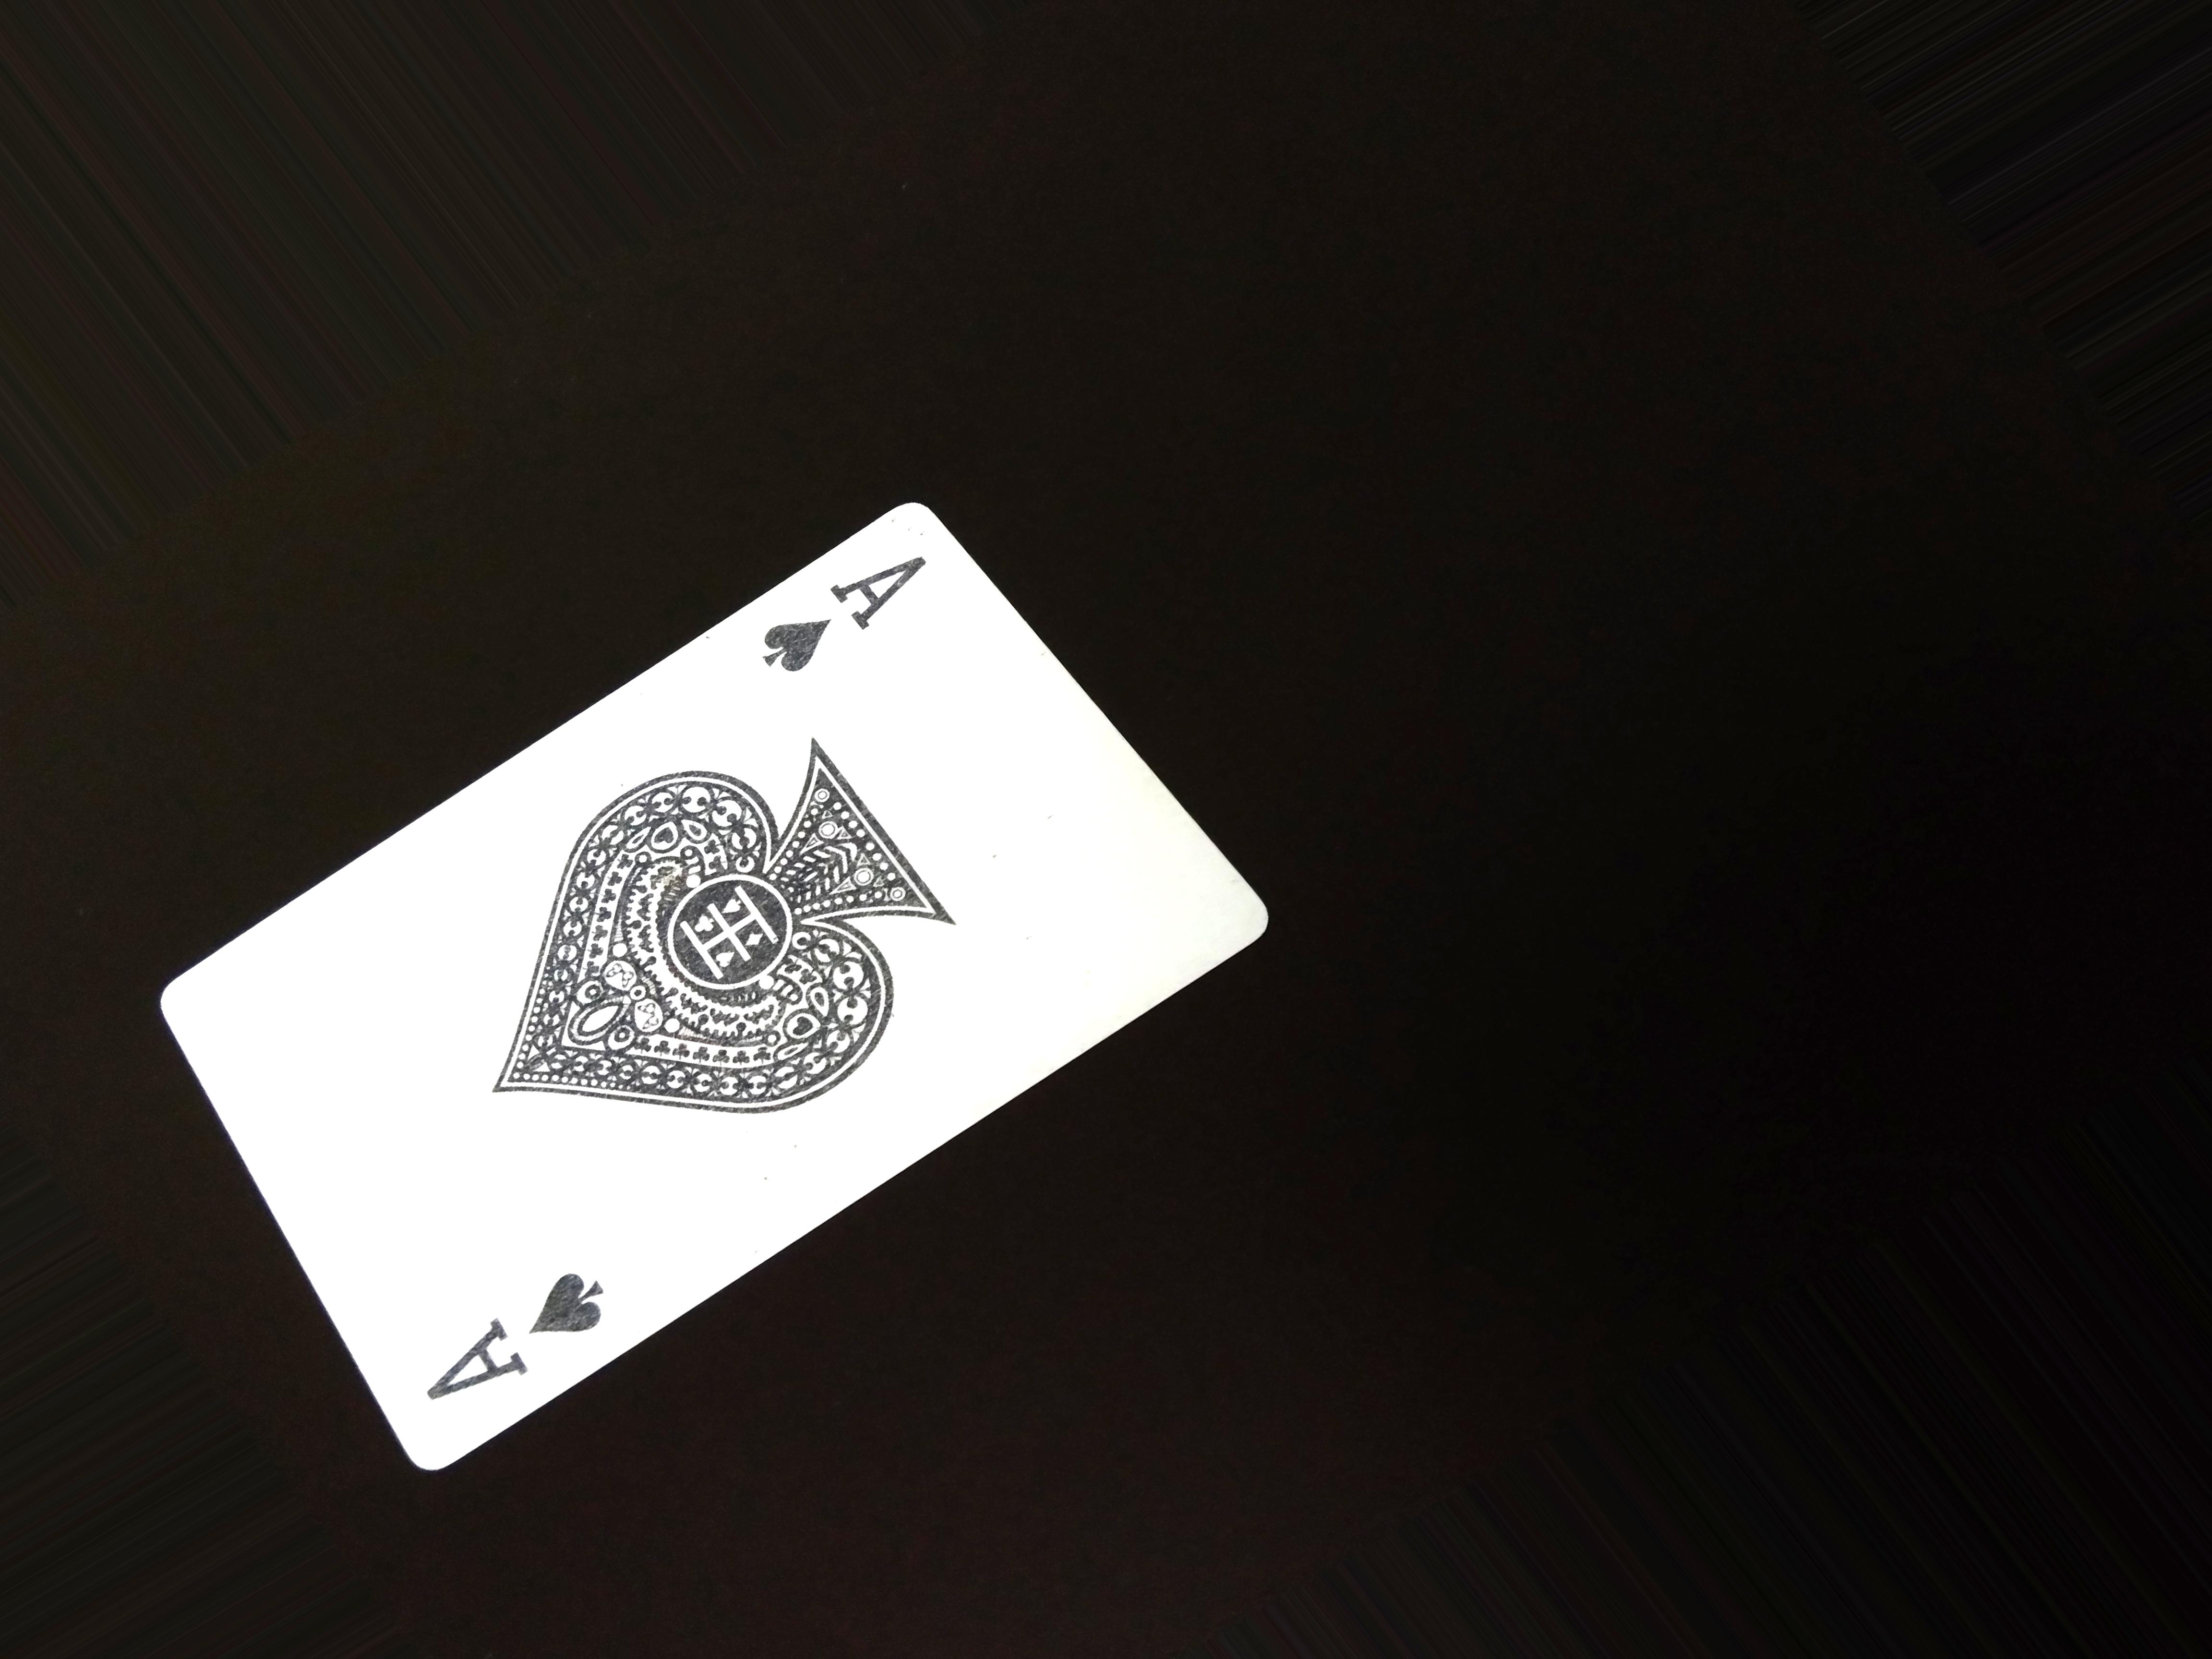AS: (761, 535, 944, 685)
